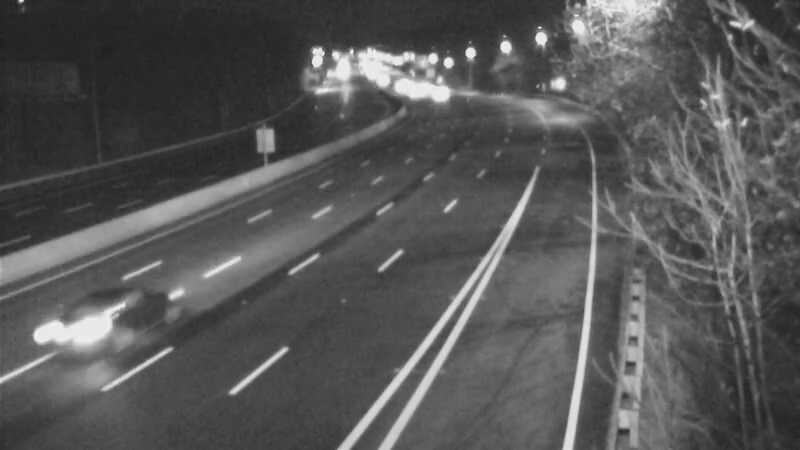vehicle: (25, 270, 135, 380), (373, 61, 423, 111), (413, 67, 463, 117)
